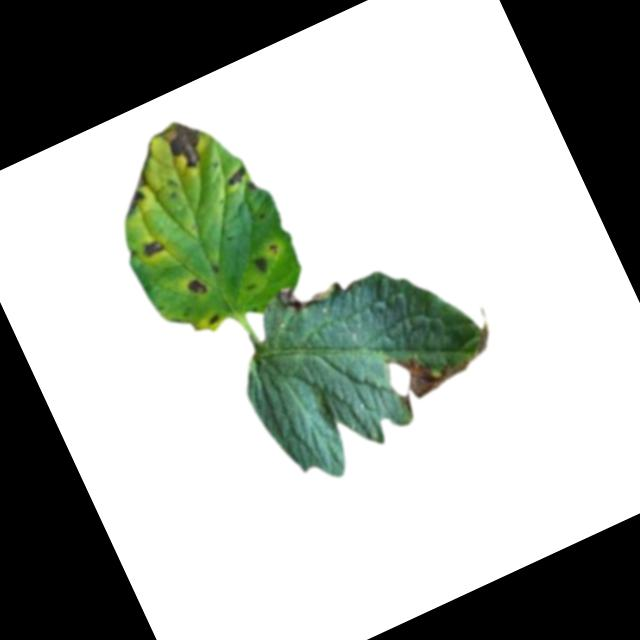Early_blight: (376, 303, 517, 415), (149, 111, 214, 180), (274, 268, 338, 322), (117, 187, 149, 217), (220, 163, 251, 188), (184, 273, 210, 300), (141, 234, 167, 258), (250, 250, 274, 275), (204, 309, 221, 325)
